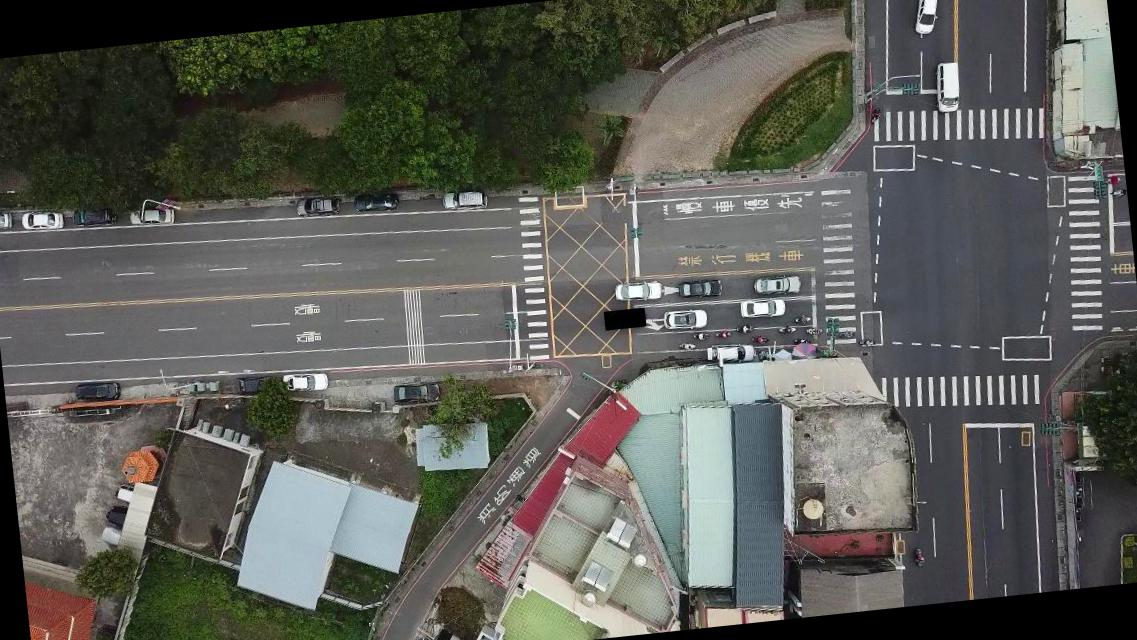vehicle: (932, 58, 962, 113), (705, 340, 758, 366), (614, 277, 665, 304), (70, 380, 121, 406), (280, 368, 329, 394), (442, 187, 489, 214), (71, 203, 118, 230), (392, 380, 442, 405), (662, 306, 710, 332), (676, 276, 724, 302), (294, 192, 342, 218), (751, 272, 802, 296), (128, 202, 175, 228), (910, 0, 943, 36), (352, 189, 401, 213), (739, 296, 787, 319), (20, 208, 63, 232), (234, 374, 279, 396)
